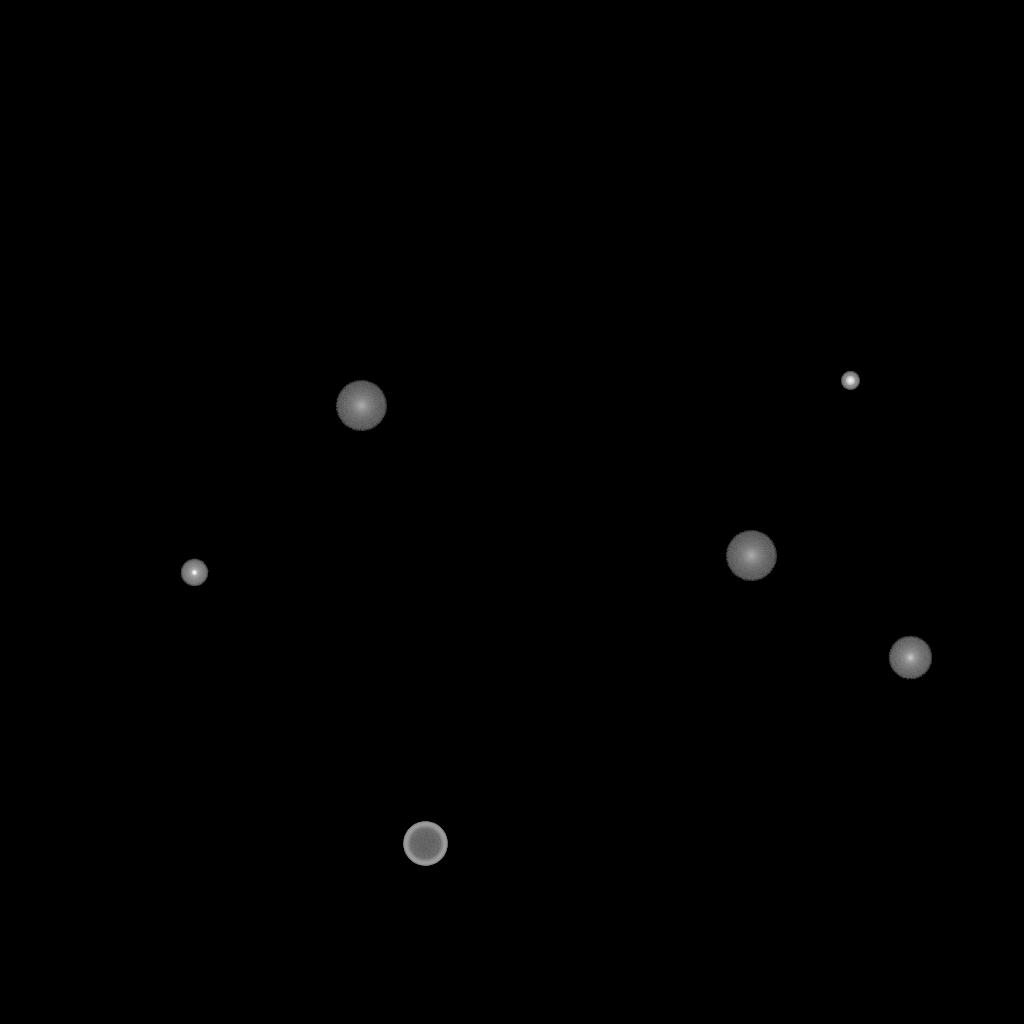depth:-10: (180, 559, 208, 587)
depth:-20: (841, 372, 859, 390)
depth:-70: (403, 822, 447, 866)
depth:10: (888, 636, 932, 680)
depth:20: (725, 531, 777, 581), (335, 381, 387, 431)
